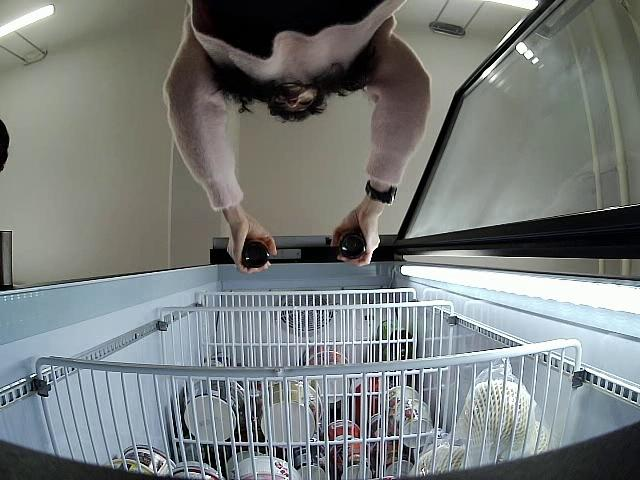00_hand: (333, 206, 379, 268), (226, 217, 276, 274)
17_vita500: (334, 229, 369, 259), (241, 239, 272, 271)
